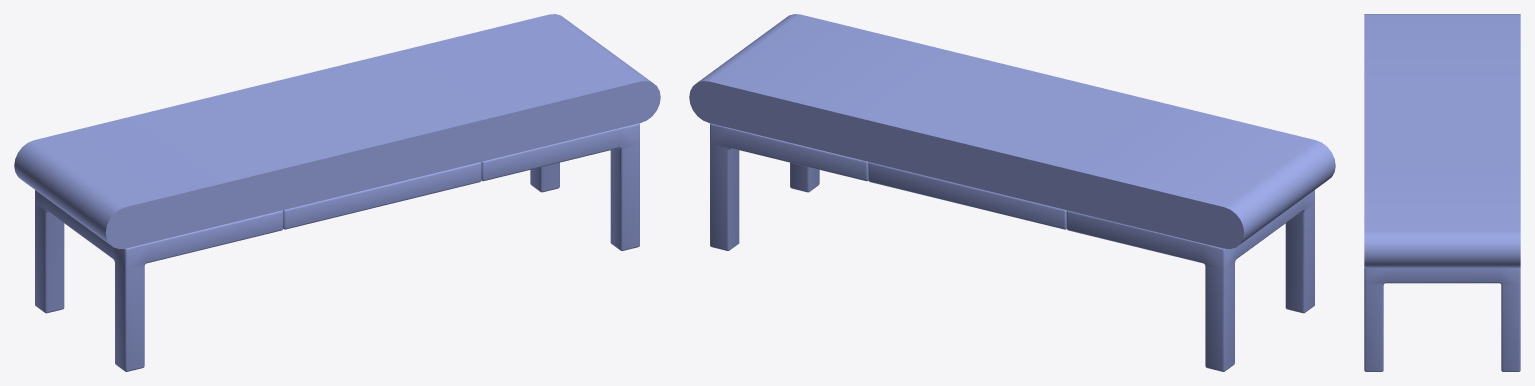
3 renders of one model, left to right at view 1: azimuth 30°, elevation 25°; view 2: azimuth 150°, elevation 25°; view 3: azimuth 270°, elevation 25°, orthographic. The views are drawn at different scales.
Parts seen in each view (by area): view 1: 履带2; view 2: 履带2; view 3: 履带2.
Boxes of the visible parts, x1,y1,x2,y2 form: 履带2: (14, 14, 660, 371); 履带2: (689, 14, 1335, 371); 履带2: (1364, 14, 1520, 371).
Size of the model in its own units: 80 by 280 by 80.
